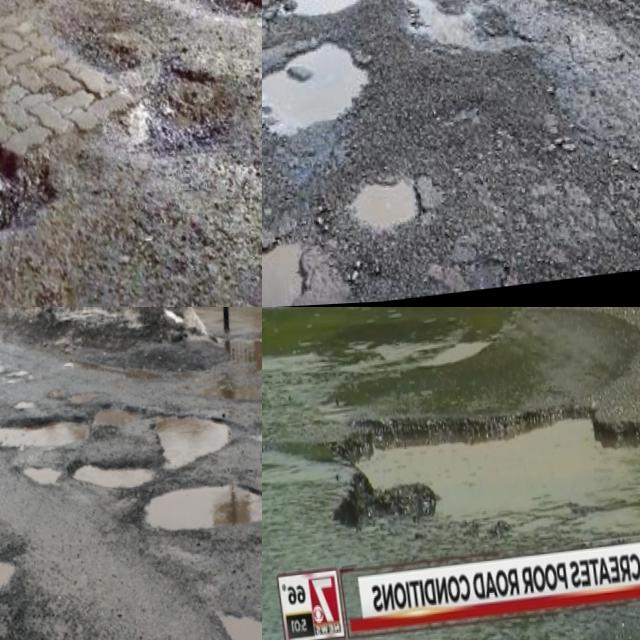Potholes: (299, 335, 640, 620), (286, 307, 538, 451), (87, 399, 262, 569), (303, 115, 457, 260), (162, 427, 262, 640), (262, 15, 374, 196), (383, 0, 571, 102), (0, 358, 129, 495), (114, 45, 220, 181), (0, 103, 65, 307), (262, 0, 415, 53), (62, 26, 149, 105), (262, 204, 320, 307), (178, 0, 262, 45)
